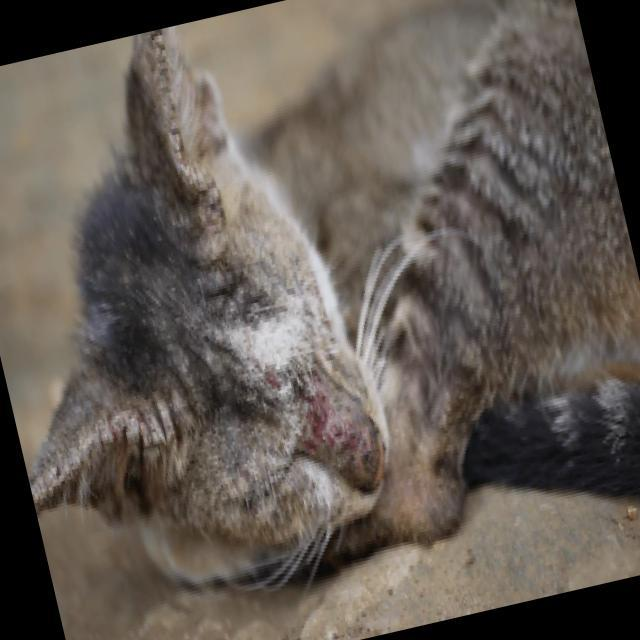Mange: (10, 362, 206, 523), (133, 26, 220, 230), (255, 343, 360, 471)
